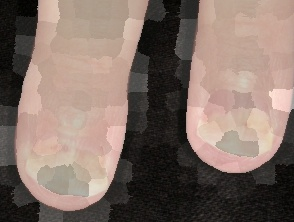Nail_psoriasis: (19, 136, 119, 206), (194, 107, 276, 163)
